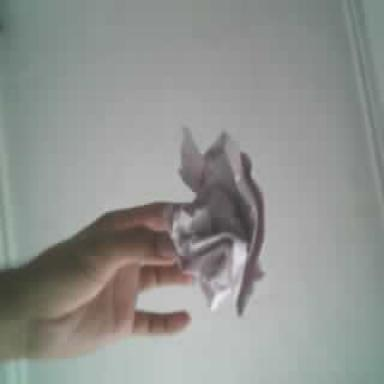paper: (168, 128, 262, 315)
